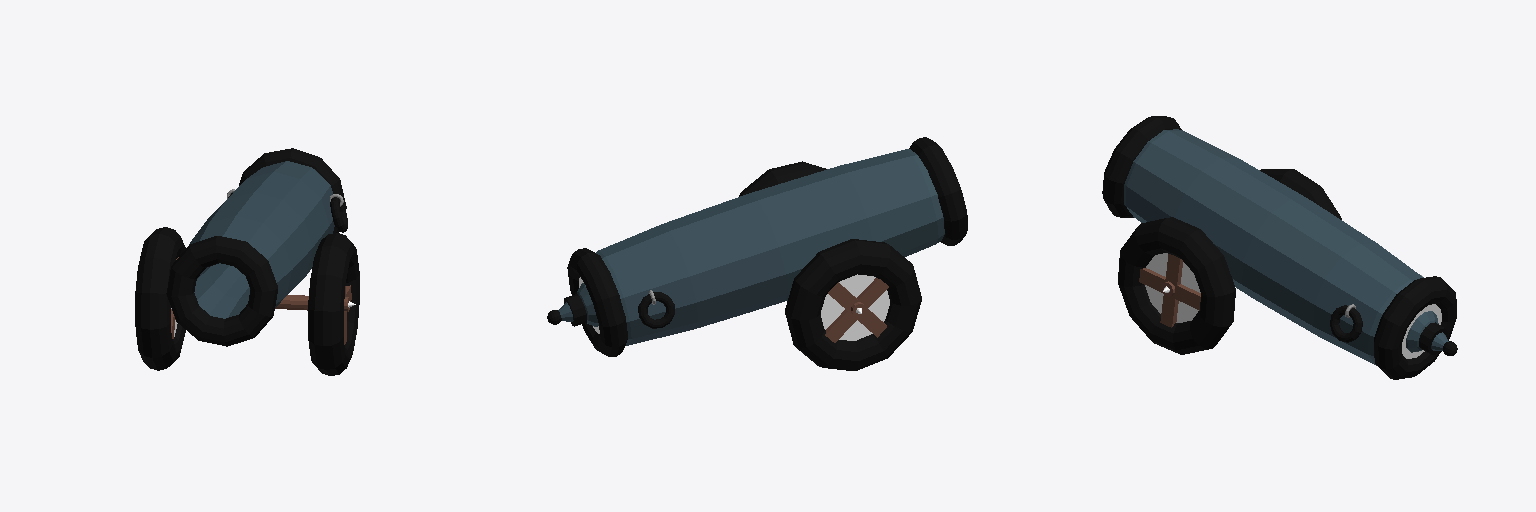
The picture shows the model from 3 angles: view 1: azimuth 30°, elevation 25°; view 2: azimuth 150°, elevation 25°; view 3: azimuth 270°, elevation 25°; orthographic projection.
Visible parts, largest first — view 1: group[number redacted], group[number redacted], group[number redacted], group[number redacted], group[number redacted]; view 2: group[number redacted], group[number redacted], group[number redacted], group[number redacted], group[number redacted], group[number redacted], group[number redacted], group[number redacted], group[number redacted]; view 3: group[number redacted], group[number redacted], group[number redacted], group[number redacted], group[number redacted], group[number redacted], group[number redacted], group[number redacted], group[number redacted], group[number redacted].
Boxes of the visible parts, x1=… form: group[number redacted]: x1=189, y1=161, x2=334, y2=318; group[number redacted]: x1=166, y1=236, x2=277, y2=346; group[number redacted]: x1=308, y1=233, x2=359, y2=375; group[number redacted]: x1=135, y1=227, x2=185, y2=370; group[number redacted]: x1=239, y1=148, x2=346, y2=232; group[number redacted]: x1=596, y1=149, x2=944, y2=345; group[number redacted]: x1=785, y1=239, x2=921, y2=370; group[number redacted]: x1=567, y1=248, x2=627, y2=356; group[number redacted]: x1=909, y1=137, x2=967, y2=245; group[number redacted]: x1=821, y1=274, x2=889, y2=340; group[number redacted]: x1=739, y1=161, x2=826, y2=196; group[number redacted]: x1=825, y1=278, x2=888, y2=342; group[number redacted]: x1=828, y1=282, x2=886, y2=337; group[number redacted]: x1=638, y1=292, x2=674, y2=328; group[number redacted]: x1=1124, y1=129, x2=1423, y2=365; group[number redacted]: x1=1118, y1=217, x2=1235, y2=354; group[number redacted]: x1=1374, y1=276, x2=1456, y2=379; group[number redacted]: x1=1102, y1=116, x2=1181, y2=217; group[number redacted]: x1=1145, y1=253, x2=1200, y2=322; group[number redacted]: x1=1260, y1=169, x2=1341, y2=219; group[number redacted]: x1=1160, y1=254, x2=1182, y2=327; group[number redacted]: x1=1139, y1=268, x2=1200, y2=310; group[number redacted]: x1=1330, y1=305, x2=1362, y2=342; group[number redacted]: x1=1406, y1=311, x2=1438, y2=352.
Bounding box in the file's own units: 0.4328 × 0.2597 × 0.4667.